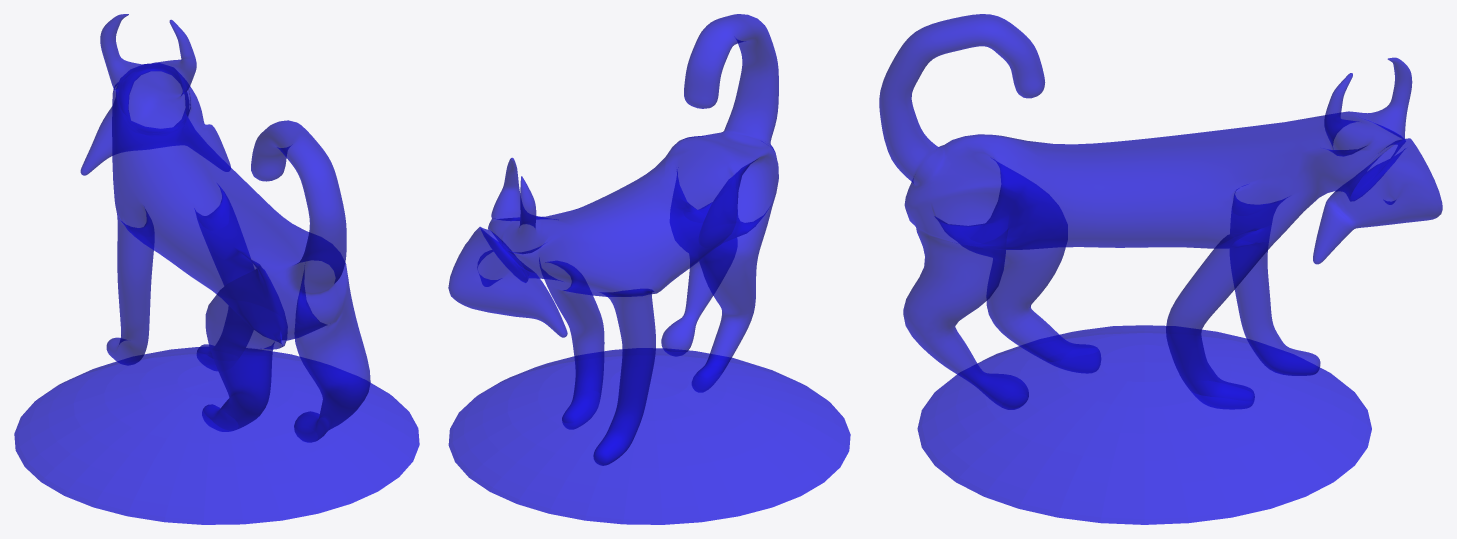
The model's file is mishibizhoo.glb.
3 renders of one model, left to right at view 1: azimuth 30°, elevation 25°; view 2: azimuth 150°, elevation 25°; view 3: azimuth 270°, elevation 25°, orthographic. The views are drawn at different scales.
Visible parts, largest first — view 1: mISHIBIZHOOU.001, Mound; view 2: mISHIBIZHOOU.001, Mound; view 3: mISHIBIZHOOU.001, Mound.
Part boxes in pixels (left/top/right/bottom): mISHIBIZHOOU.001: left=80, top=14, right=370, bottom=442; Mound: left=14, top=347, right=419, bottom=524; mISHIBIZHOOU.001: left=448, top=14, right=778, bottom=465; Mound: left=448, top=348, right=850, bottom=524; mISHIBIZHOOU.001: left=879, top=14, right=1442, bottom=409; Mound: left=917, top=325, right=1371, bottom=524.
Size of the model in its own units: 9.49 by 9.5 by 11.76.
